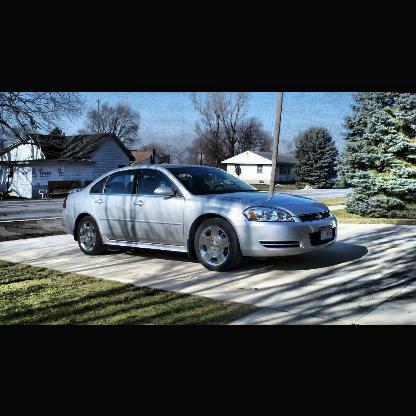Chevrolet Impala Sedan 2007: (61, 162, 340, 272)
